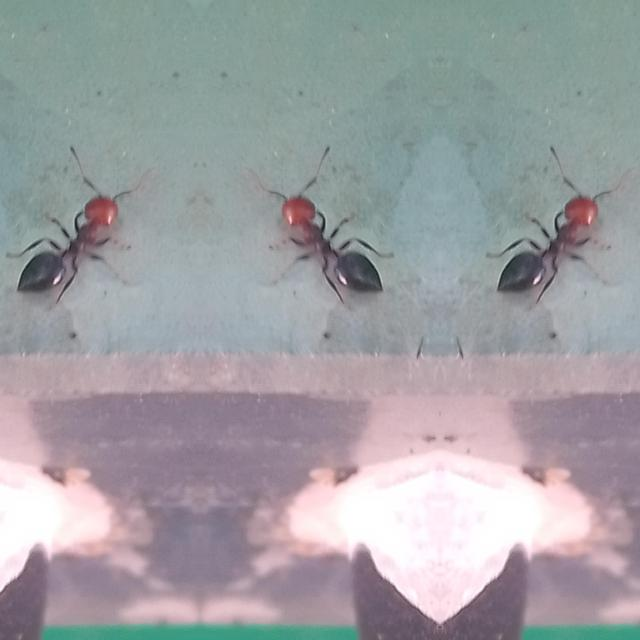Crematogaster: (478, 172, 624, 304), (255, 172, 400, 304), (0, 171, 142, 304)
